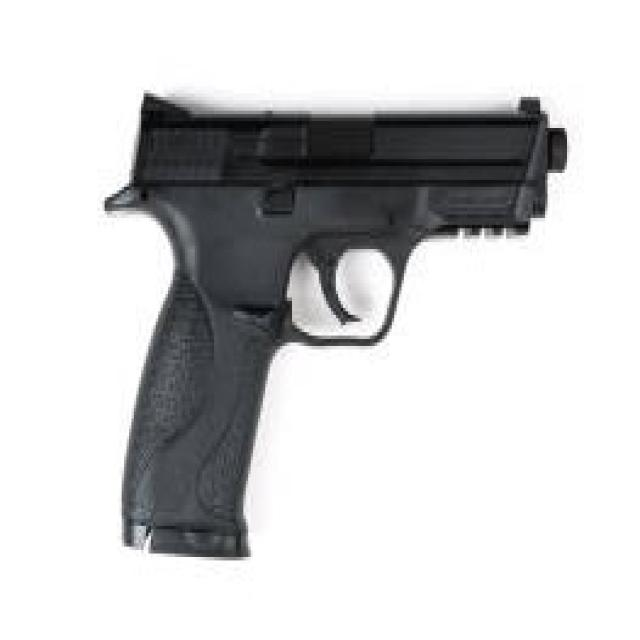pistol: (101, 78, 577, 565)
